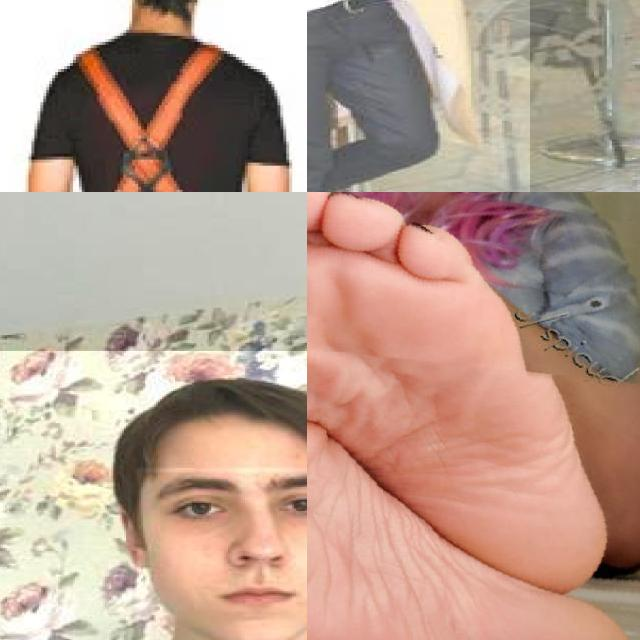Barefoots: (307, 192, 619, 590), (307, 431, 636, 640)
Harness: (65, 41, 253, 192)
No_Ear-Protection: (112, 502, 160, 578)
No_Glasses: (135, 463, 307, 543)
face_nomask: (136, 468, 307, 640)
head_nohelmet: (145, 363, 307, 472)
person: (0, 350, 307, 640), (307, 0, 532, 192)
